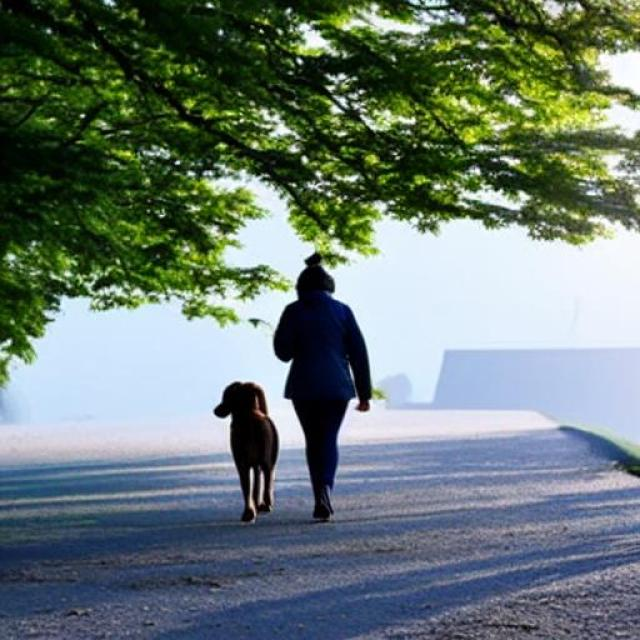Unleashed_Dog: (212, 380, 367, 524)
